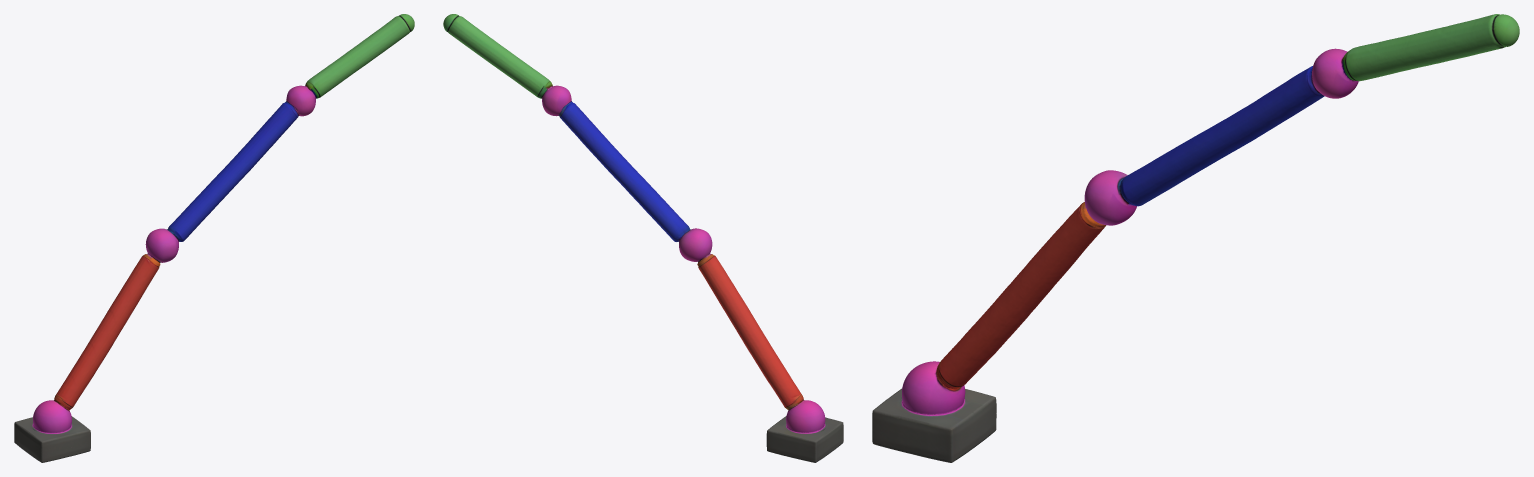
3 views of the same model, side by side, from view 1: azimuth 30°, elevation 25°; view 2: azimuth 150°, elevation 25°; view 3: azimuth 330°, elevation 25° (orthographic). The views are drawn at different scales.
Parts seen in each view (by area): view 1: tripo_node_dc0195b8-ba8e-4fc5-8225-5fd9d1226568; view 2: tripo_node_dc0195b8-ba8e-4fc5-8225-5fd9d1226568; view 3: tripo_node_dc0195b8-ba8e-4fc5-8225-5fd9d1226568.
Boxes of the visible parts, box(x1,y1,x2,y2) form: tripo_node_dc0195b8-ba8e-4fc5-8225-5fd9d1226568: box(14, 14, 414, 462); tripo_node_dc0195b8-ba8e-4fc5-8225-5fd9d1226568: box(443, 14, 843, 462); tripo_node_dc0195b8-ba8e-4fc5-8225-5fd9d1226568: box(872, 14, 1519, 462).
Bounding box in the file's own units: 1 × 0.8598 × 0.1278.
1 material, 1 textured.
